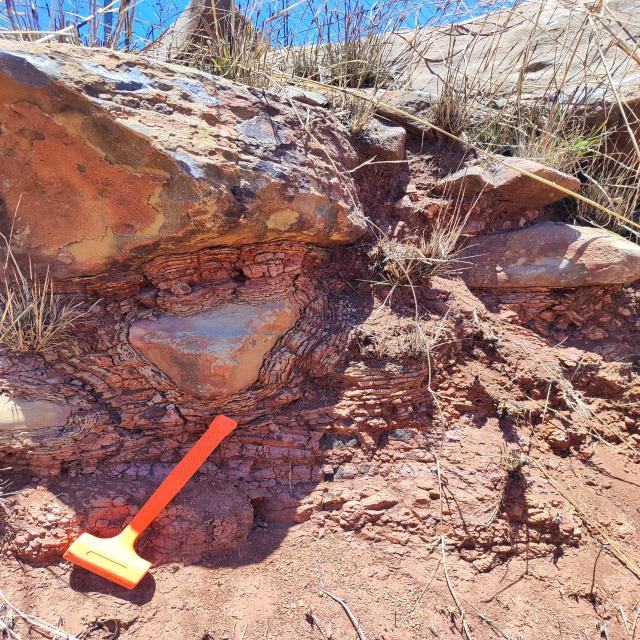Orange_hammer: (62, 413, 238, 590)
